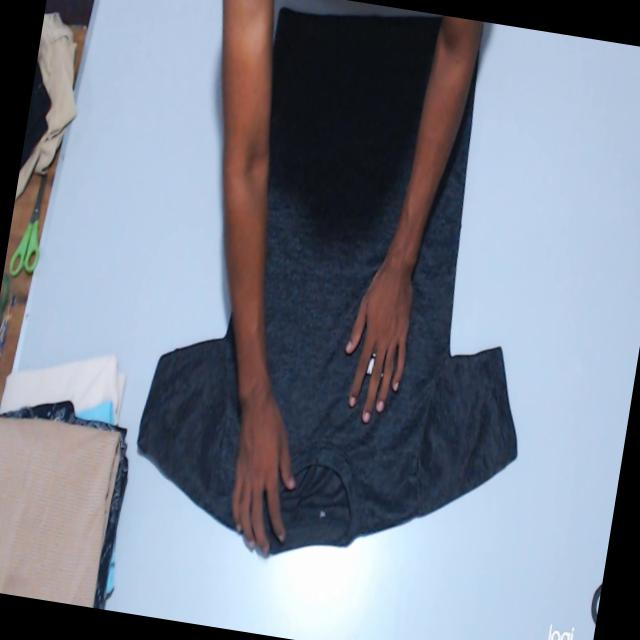new-garment: (264, 9, 517, 553), (139, 316, 239, 527)
